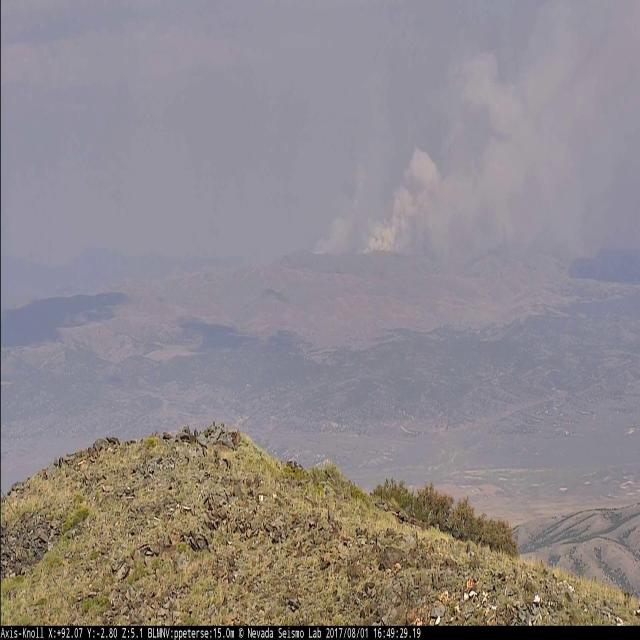smoke: (312, 0, 640, 266)
